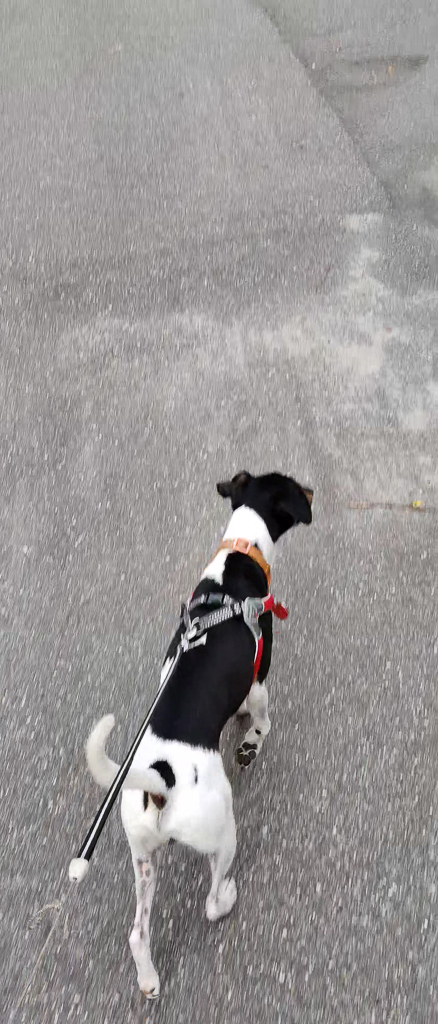Dog: (73, 461, 329, 1004)
